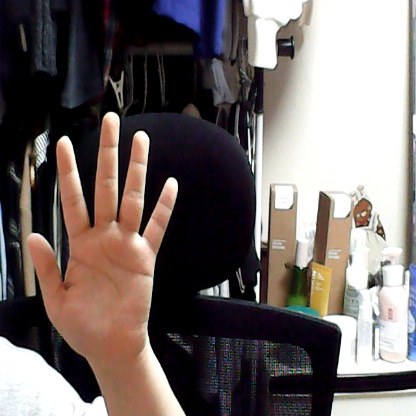Finger_5: (27, 100, 188, 347)
